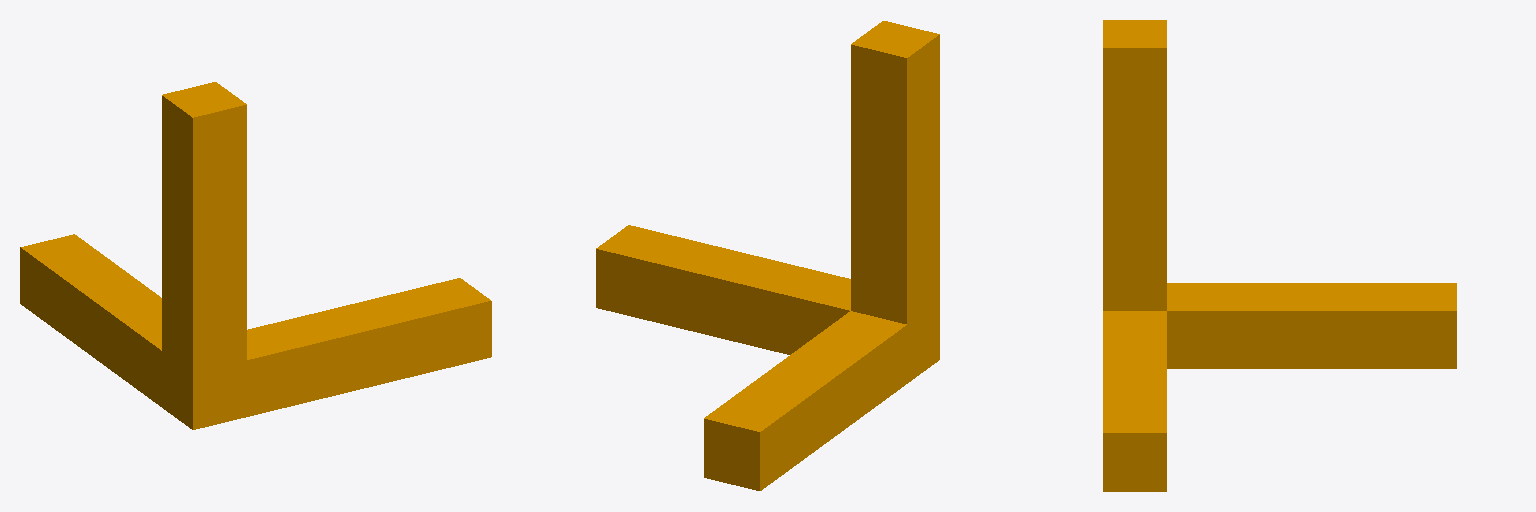
URDF robot description (frame):
<?xml version="0.0" ?>
<robot name="frame">

  <material name="farme_material">
    <texture filename="package://overworld/models/tutorials/Frame/frame.png"/>
  </material>

  <link concave="yes" name="adream_walls">
    <inertial>
      <origin rpy="0 0 0" xyz="0 0 0"/>
      <mass value=".0"/>
      <inertia ixx="0" ixy="0" ixz="0" iyy="0" iyz="0" izz="0"/>
    </inertial>
    <visual>
      <origin rpy="0 0 0" xyz="0 0 0"/>
      <geometry>
        <mesh filename="package://overworld/models/tutorials/Frame/frame.obj" scale="1 1 1"/>
      </geometry>
      <material name="farme_material"/>
    </visual>
    <collision>
      <origin rpy="0 0 0" xyz="0 0 0"/>
      <geometry>
        <mesh filename="package://overworld/models/tutorials/Frame/frame.obj" scale="1 1 1"/>
      </geometry>
    </collision>
  </link>

</robot>

--- Render facts (derived) ---
Views: 3 orthographic renders of the robot side by side, from view 1: azimuth 30°, elevation 25°; view 2: azimuth 150°, elevation 25°; view 3: azimuth 270°, elevation 25°.
Model frame with 1 links and 0 joints (none), rooted at adream_walls, posed all joints at 0.
Visible links, largest first — view 1: adream_walls; view 2: adream_walls; view 3: adream_walls.
Boxes of the visible links, x1,y1,x2,y2 form: adream_walls: [20, 82, 491, 429]; adream_walls: [596, 21, 939, 490]; adream_walls: [1103, 20, 1456, 491].
Size in the robot's own frame: 1.1 by 1.1 by 1.1 metres.
Meshes: 1 distinct files referenced, 1 mesh visuals loaded (1 OBJ).